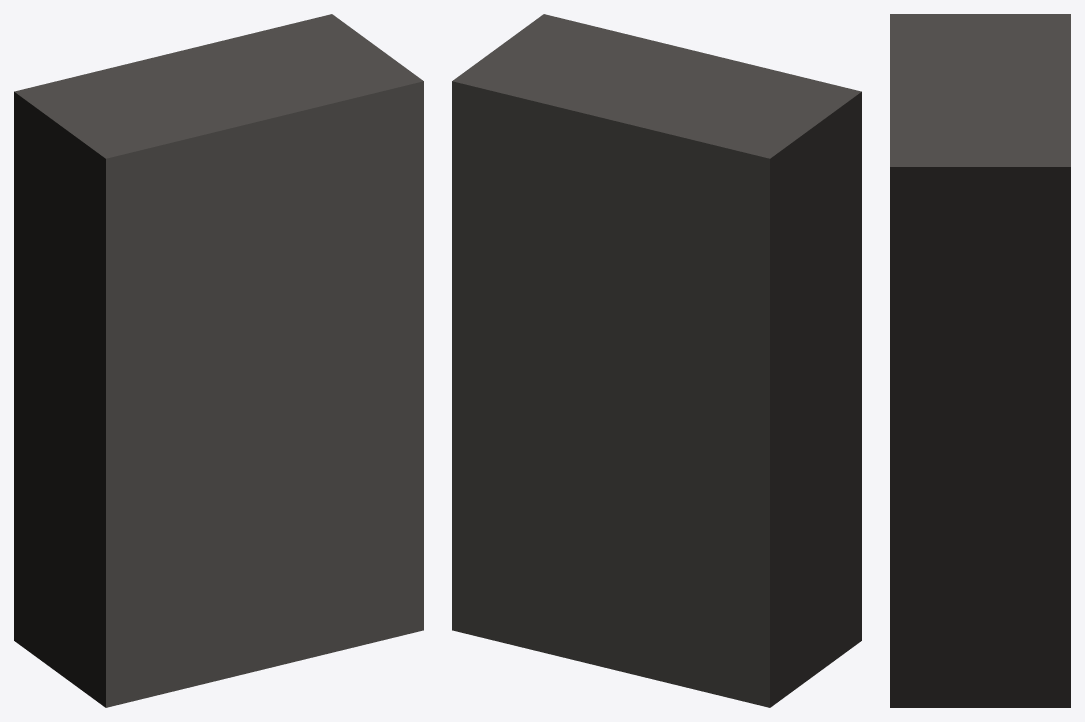
The model's file is book_6.gltf.
3 views of the same model, side by side, from view 1: azimuth 30°, elevation 25°; view 2: azimuth 150°, elevation 25°; view 3: azimuth 270°, elevation 25° (orthographic).
Parts seen in each view (by area): view 1: cuboid; view 2: cuboid; view 3: cuboid.
Boxes of the visible parts, x1,y1,x2,y2 form: cuboid: (14, 14, 423, 707); cuboid: (452, 14, 861, 707); cuboid: (890, 14, 1070, 707).
Bounding box in the file's own units: 0.125 × 0.2062 × 0.0625.
1 material, 1 textured.
